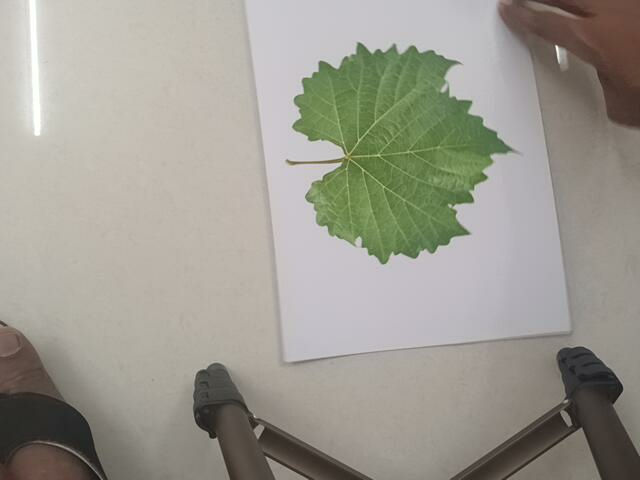Grape_Healthy: (287, 43, 531, 261)
